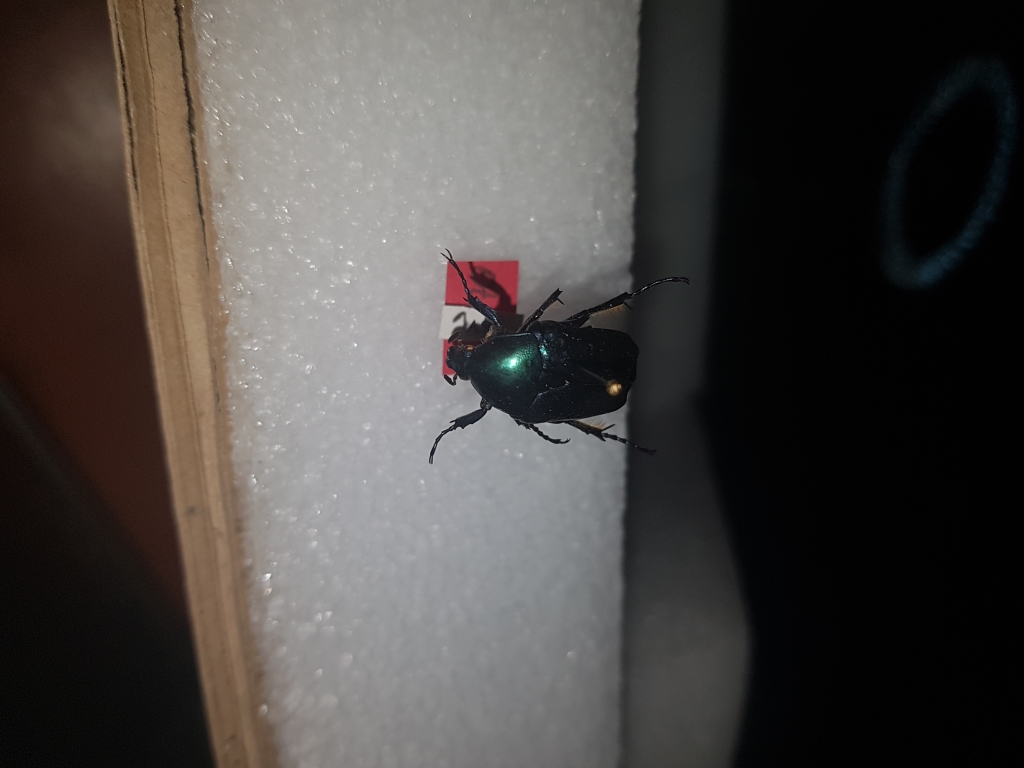Protaetia_besucheti: (418, 238, 700, 473)
